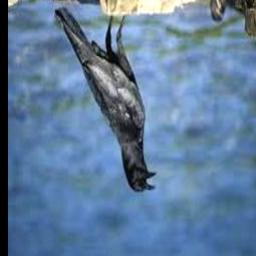Crow: (54, 6, 156, 193)
